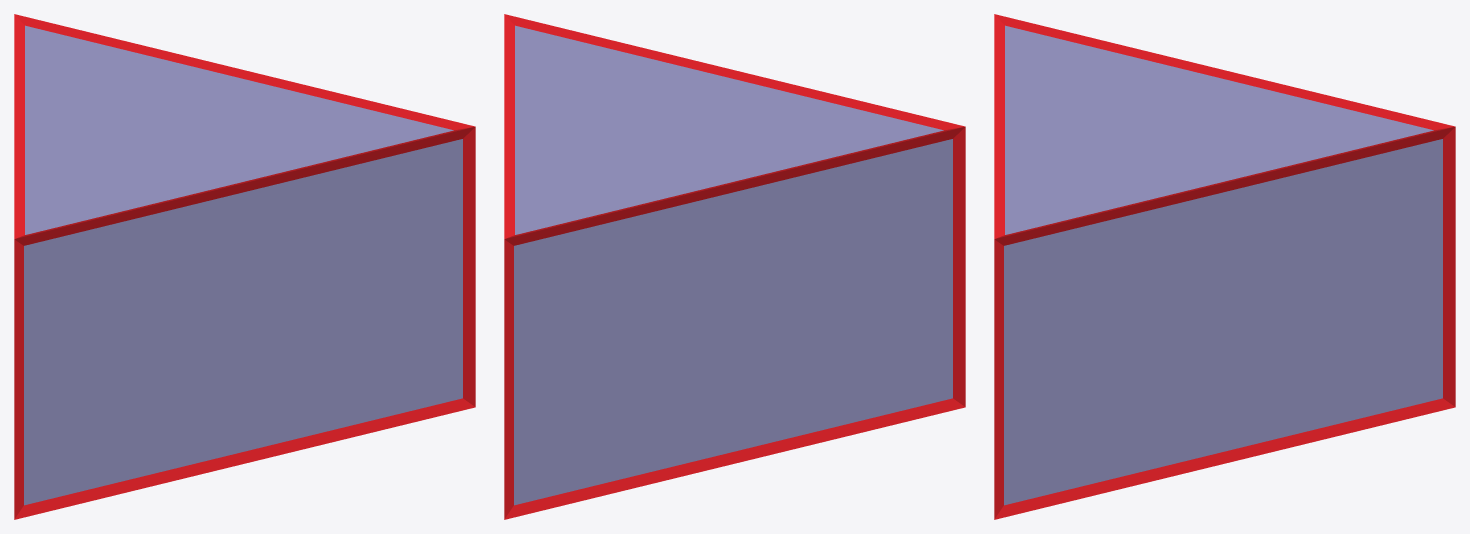
3 renders of one model, left to right at view 1: azimuth 30°, elevation 25°; view 2: azimuth 150°, elevation 25°; view 3: azimuth 270°, elevation 25°, orthographic.
Parts seen in each view (by area): view 1: 三角柱.001, 三角柱(線框); view 2: 三角柱.001, 三角柱(線框); view 3: 三角柱.001, 三角柱(線框).
Boxes of the visible parts, <box> form: 三角柱.001: <box>24,25,462,505</box>; 三角柱(線框): <box>14,14,475,519</box>; 三角柱.001: <box>514,25,952,505</box>; 三角柱(線框): <box>504,14,965,519</box>; 三角柱.001: <box>1004,25,1442,505</box>; 三角柱(線框): <box>994,14,1455,519</box>.
Size of the model in its own units: 1.77 by 1.03 by 1.53.
